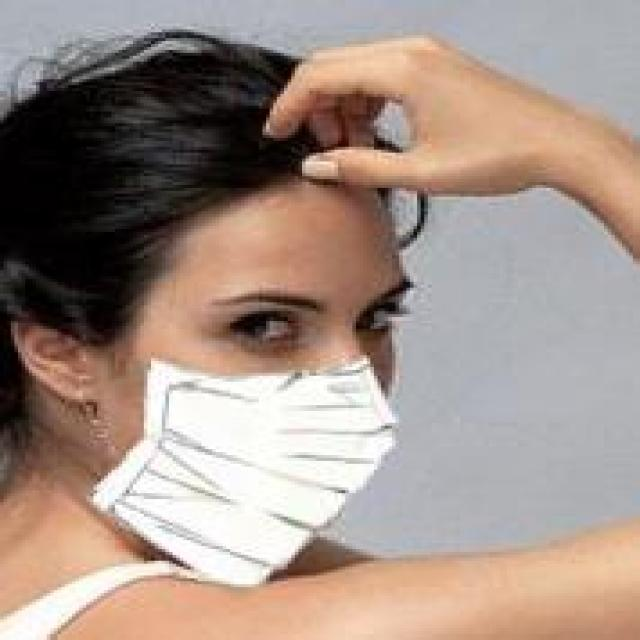mask: (0, 32, 460, 578)
